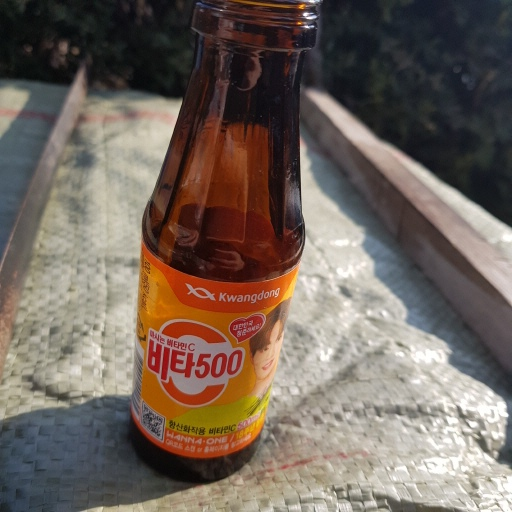Glass_3: (132, 5, 323, 479)
